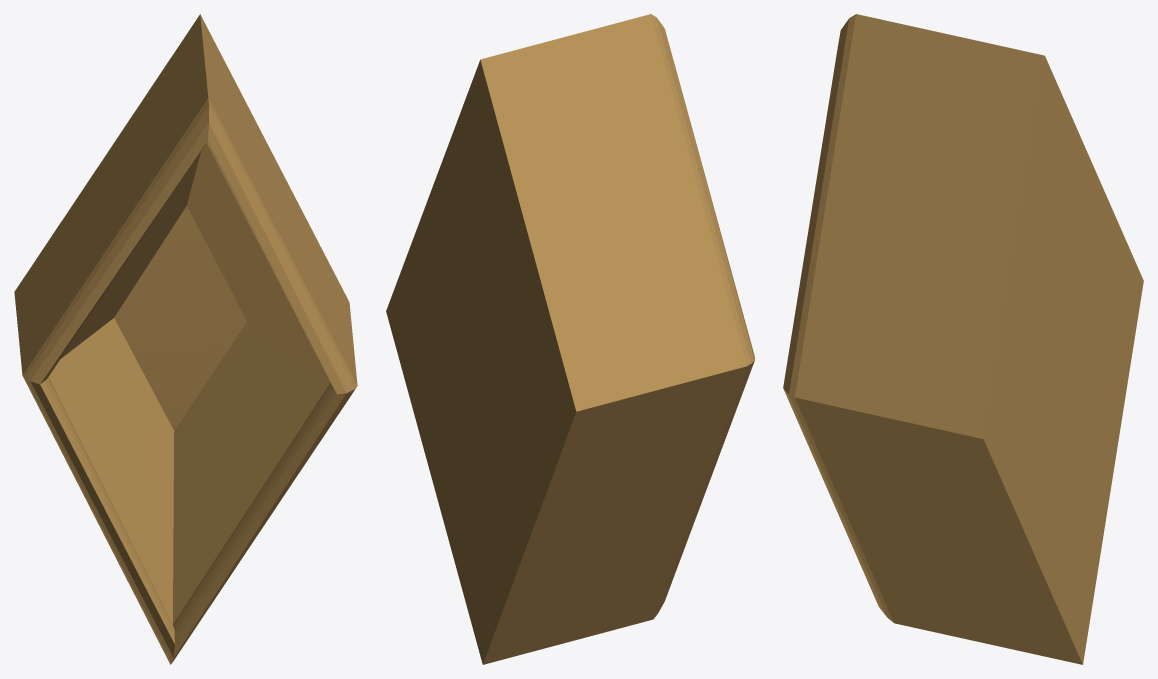
Rendered from TL2_8shapes_Kite_Classic_Metal.001 2.glb.
3 renders of one model, left to right at view 1: azimuth 30°, elevation 25°; view 2: azimuth 150°, elevation 25°; view 3: azimuth 270°, elevation 25°, orthographic. The views are drawn at different scales.
Visible parts, largest first — view 1: TL2_8shapes_Kite_Classic_Metal.001; view 2: TL2_8shapes_Kite_Classic_Metal.001; view 3: TL2_8shapes_Kite_Classic_Metal.001.
Boxes of the visible parts, bbox=[...] form: TL2_8shapes_Kite_Classic_Metal.001: bbox=[14, 14, 357, 664]; TL2_8shapes_Kite_Classic_Metal.001: bbox=[386, 14, 754, 664]; TL2_8shapes_Kite_Classic_Metal.001: bbox=[783, 14, 1143, 664].
Bounding box in the file's own units: 0.4694 × 0.757 × 0.3991.
